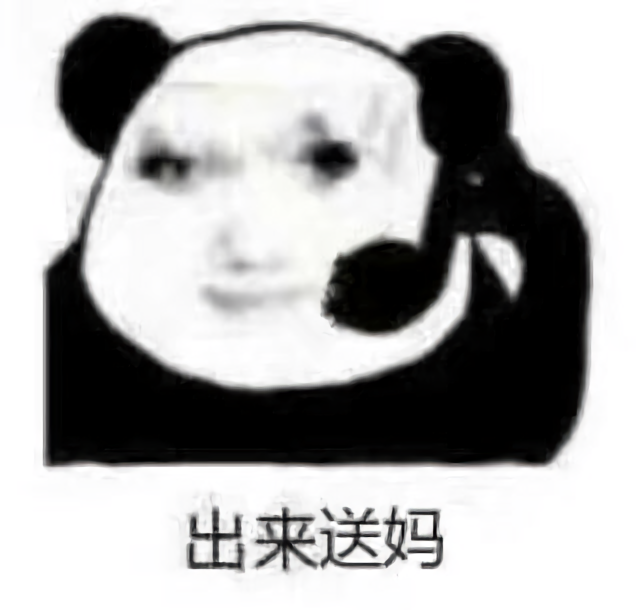dragon: (132, 124, 364, 318)
